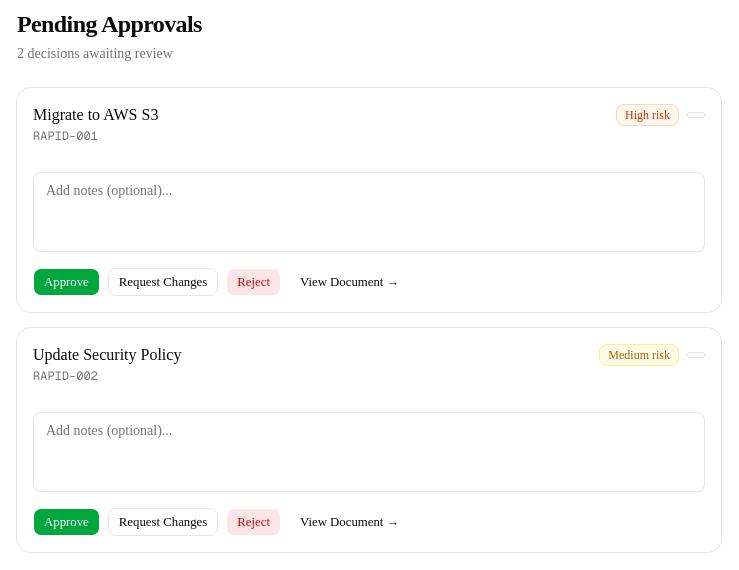
ApprovalsPage › request-changes removes card from list
Expected: the text "Migrate to AWS S3" is shown, [33, 104, 158, 126]
Step 1. Click the button "Request Changes" below "RAPID-001" → (163, 282), box [108, 268, 218, 296]
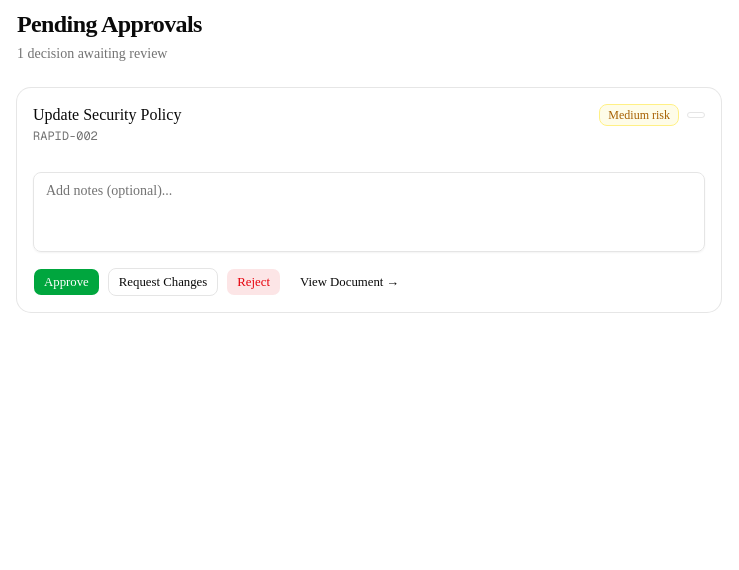
Now the text "Migrate to AWS S3" is gone
